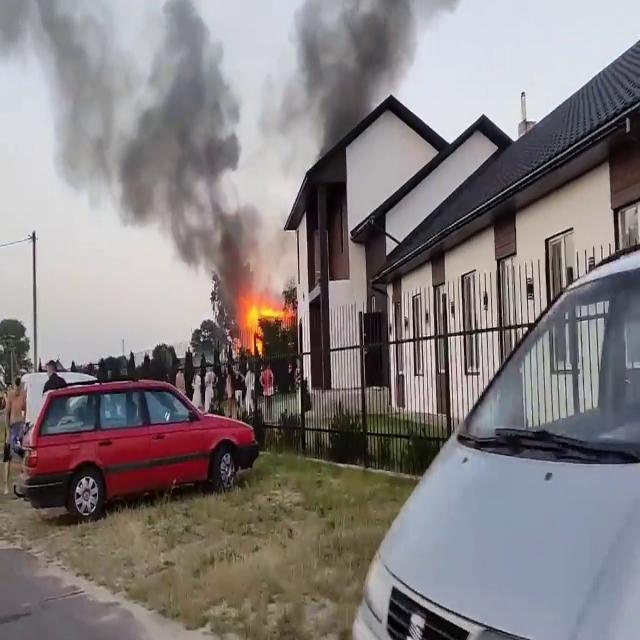Fire: (240, 292, 292, 352)
Smoke: (114, 0, 269, 298), (285, 0, 428, 157)
